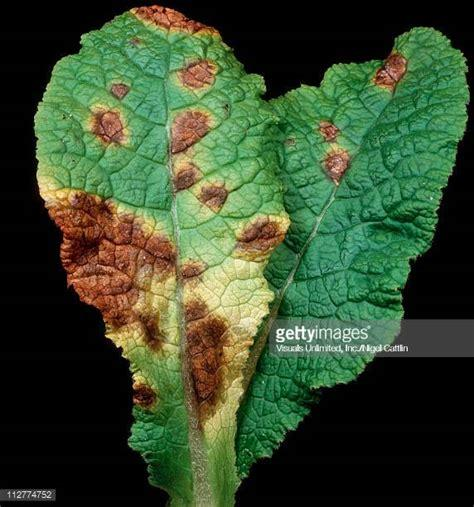black-spot: (80, 62, 231, 199)
